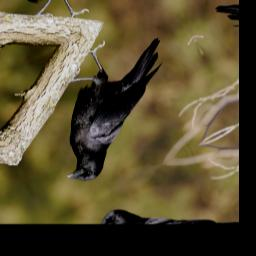Crow: (14, 15, 203, 193)
